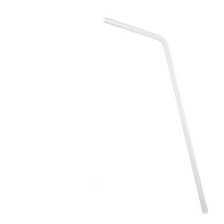drinking_straw: (97, 12, 213, 218)
